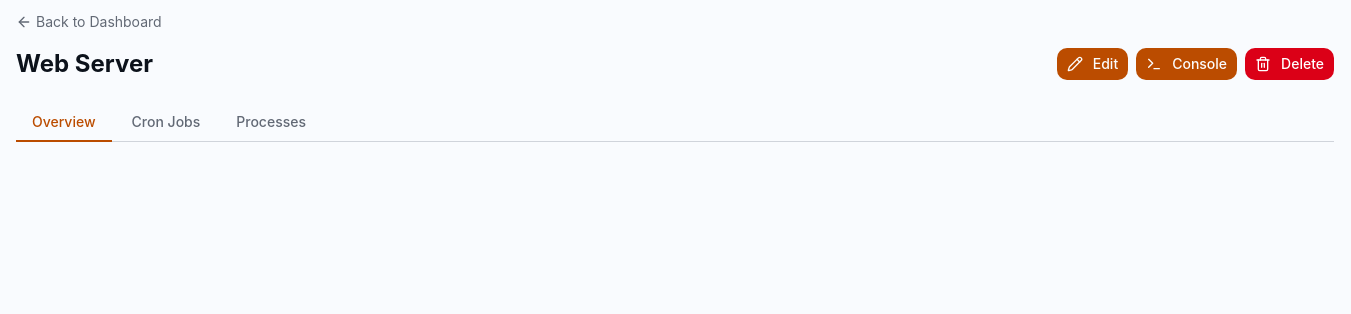
it: ServerDetail — tabs › clicking Cron Jobs tab shows cron table area
Click the tab "Cron Jobs" at coordinates (166, 123), box [116, 104, 216, 142]
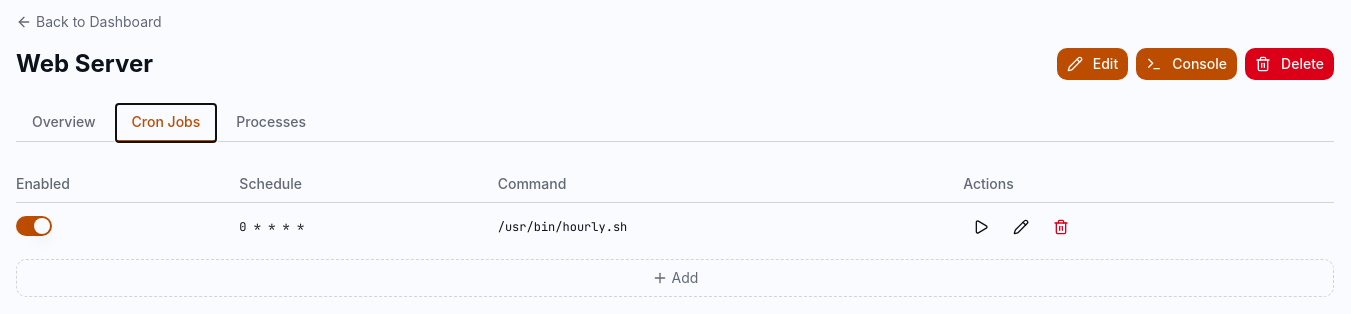
expect the element with test id "cron-jobs-tab" is shown: met, box [16, 166, 1334, 297]
